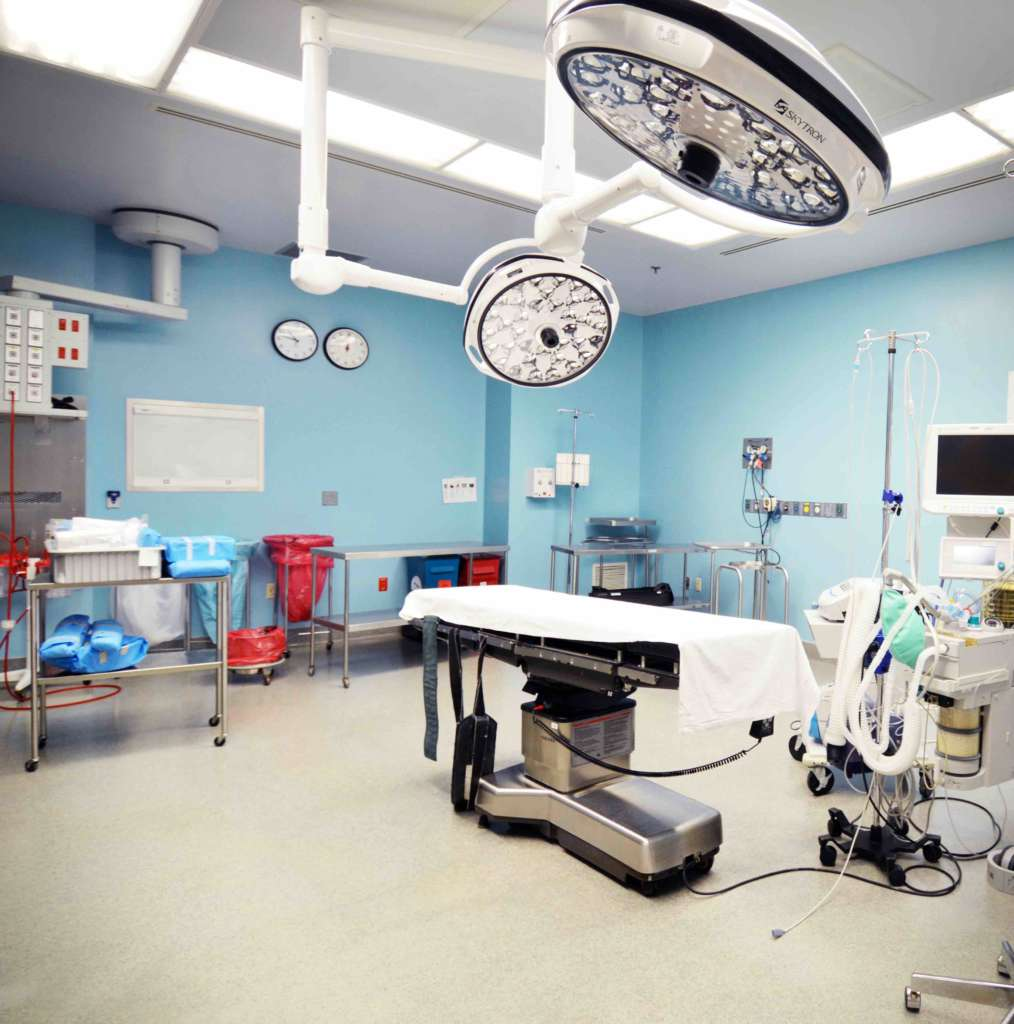bedside_monitor: (922, 422, 1014, 518)
breathing_tube: (835, 571, 938, 778)
iv_pole: (858, 324, 934, 568), (555, 405, 596, 593)
operating_bed: (400, 584, 801, 899)
surgical_light: (528, 1, 895, 226), (463, 256, 621, 395)
utility_cart: (31, 563, 234, 770), (311, 547, 509, 690), (551, 541, 719, 609)
ventilator: (863, 539, 1014, 847)
waste_bin: (259, 525, 338, 652), (226, 619, 292, 682)
